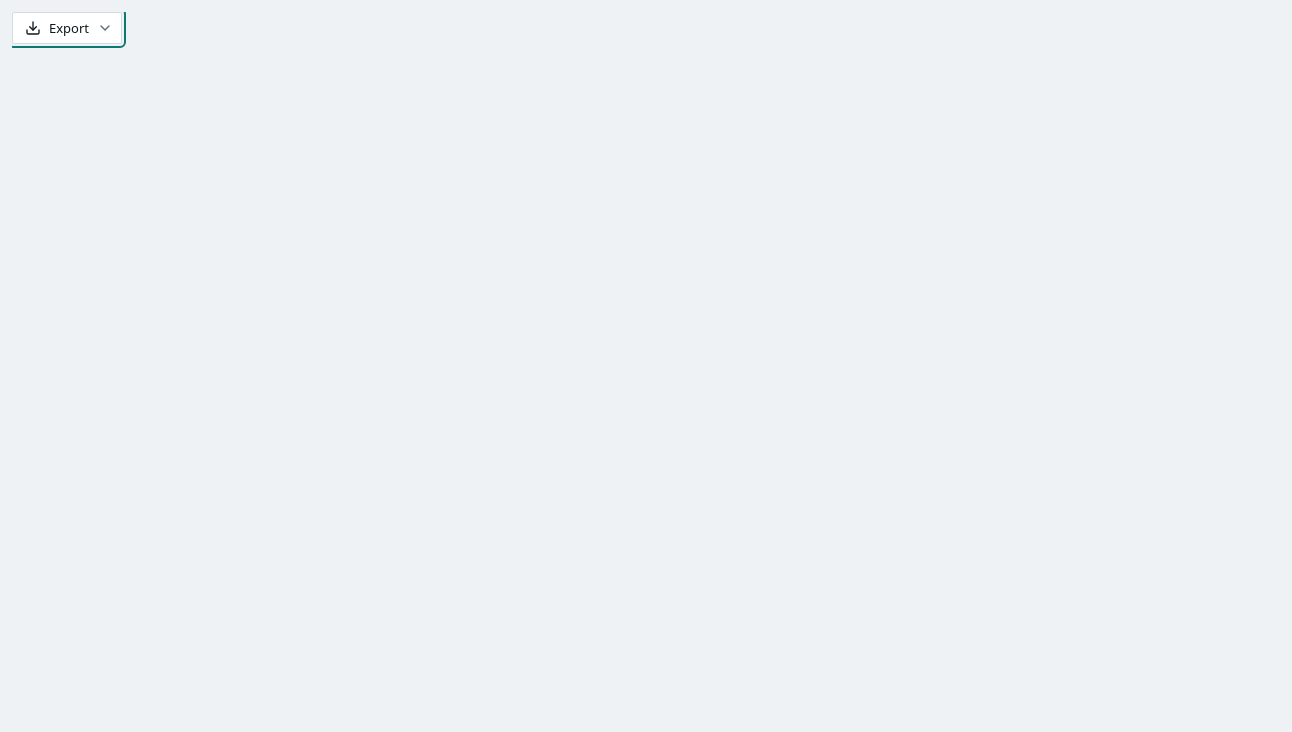
Test: ExportMenu › shows the pending format and an error toast when the export fails
Press Enter
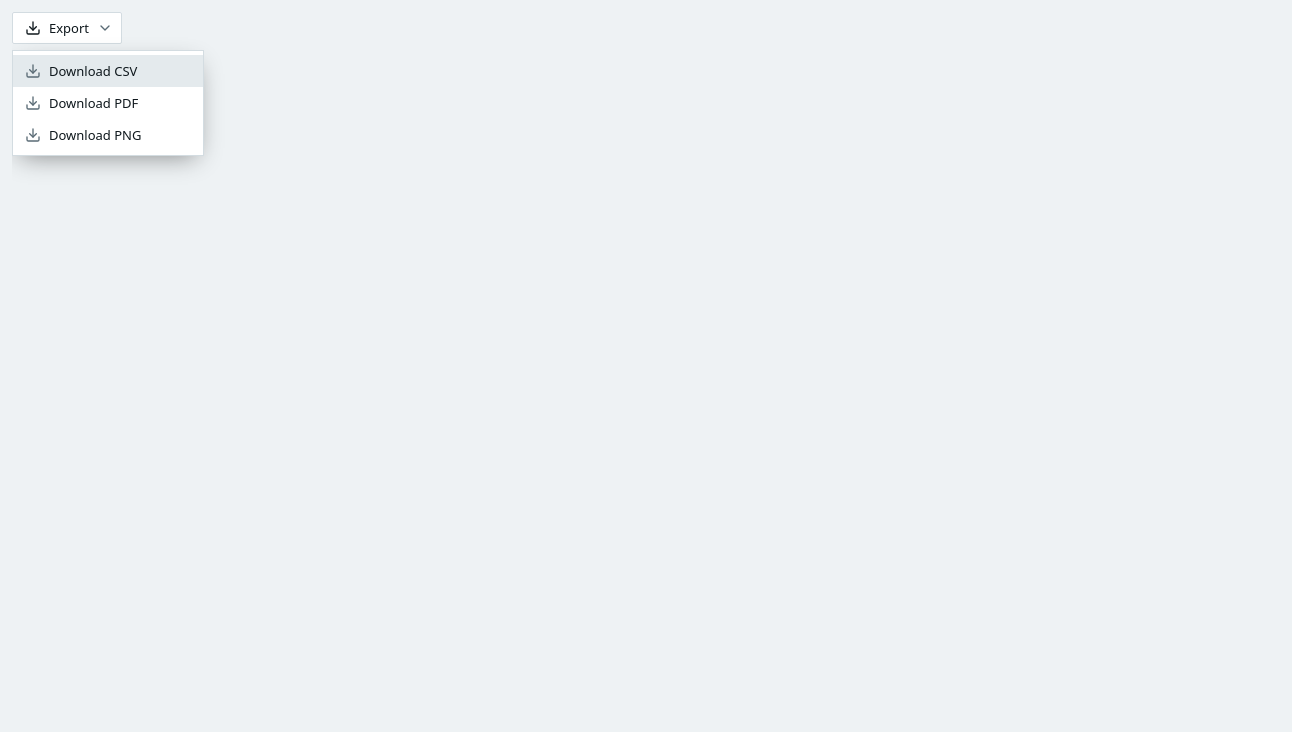
Click the menu item "Download PDF": (82, 103) [25,94,138,112]
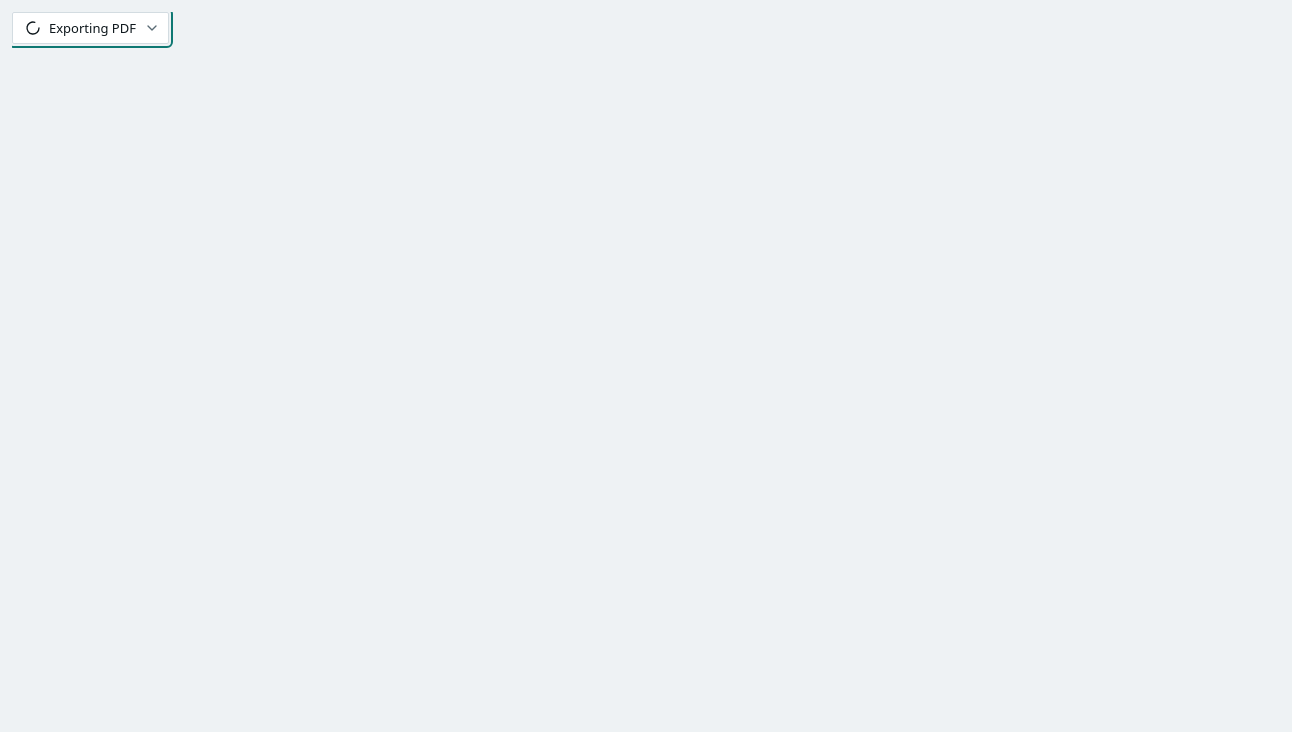
Now the button "Exporting PDF" is shown, box [12,12,169,44]
Press Enter
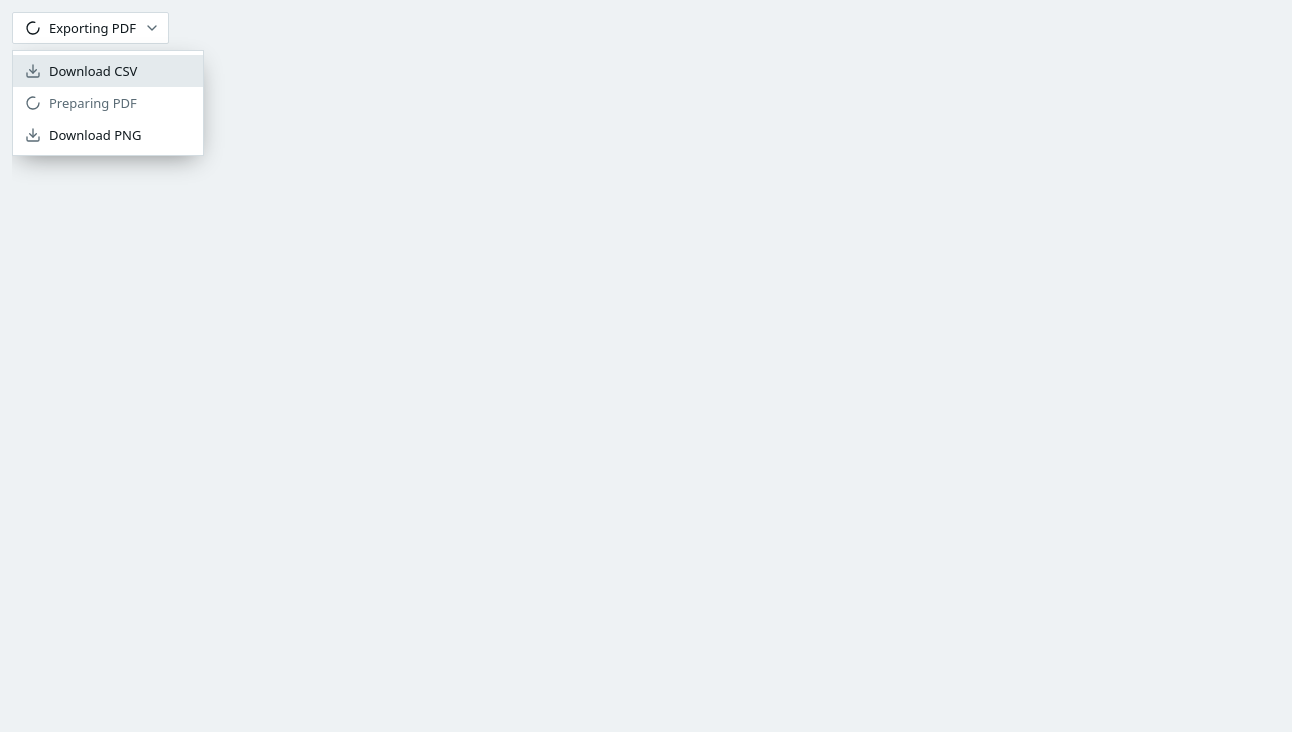
Now the menu item "Preparing PDF" is disabled, box [25,94,137,112]
Press Escape
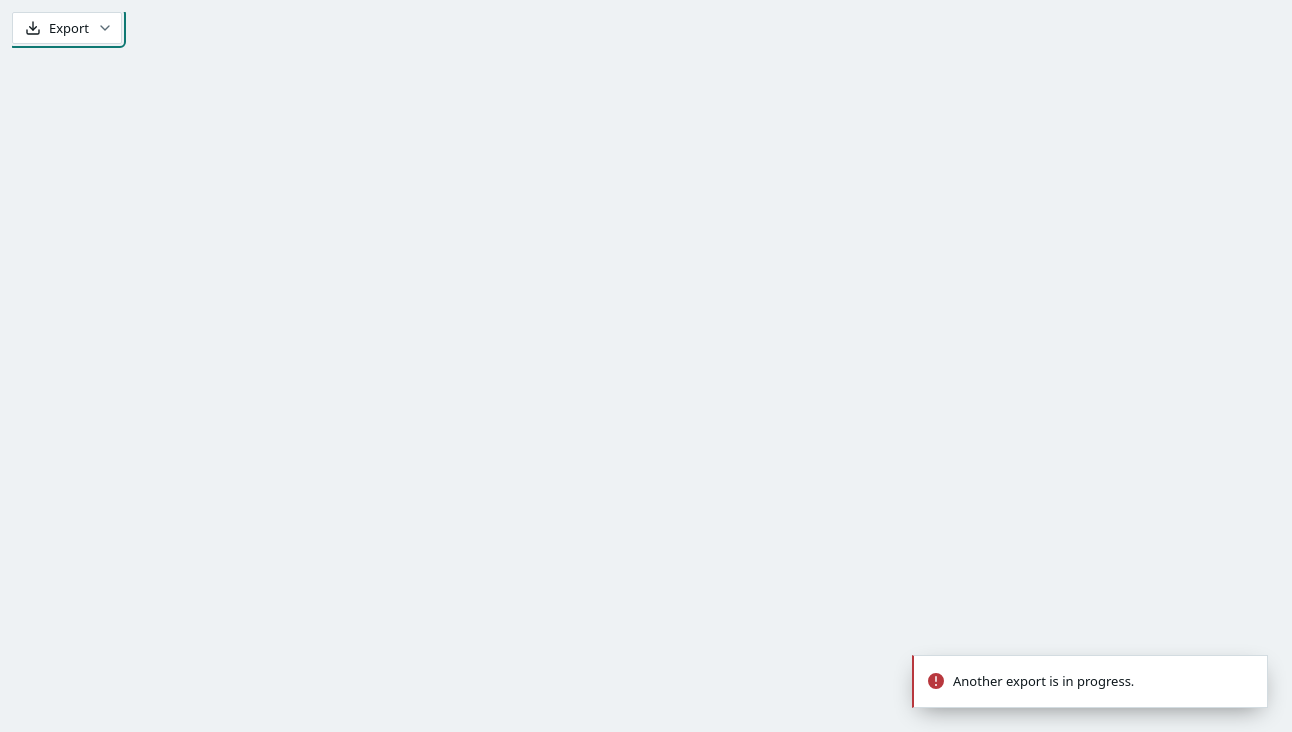
Expected: the button "Export" is enabled, [12,12,122,44]
Now the text "Another export is in progress." is shown, box [953,672,1134,691]
